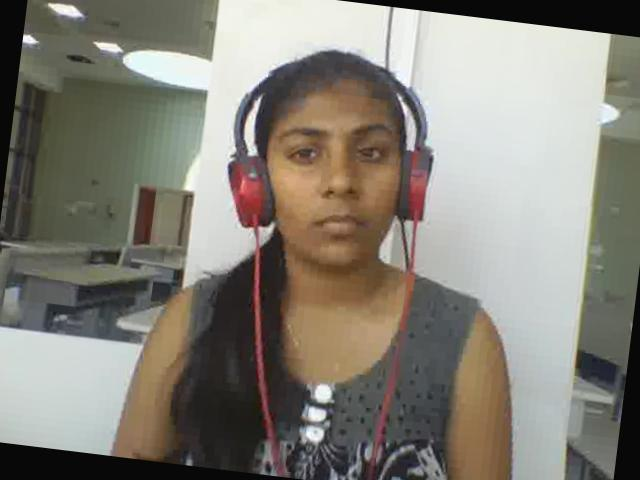bosan: (252, 78, 410, 274)
